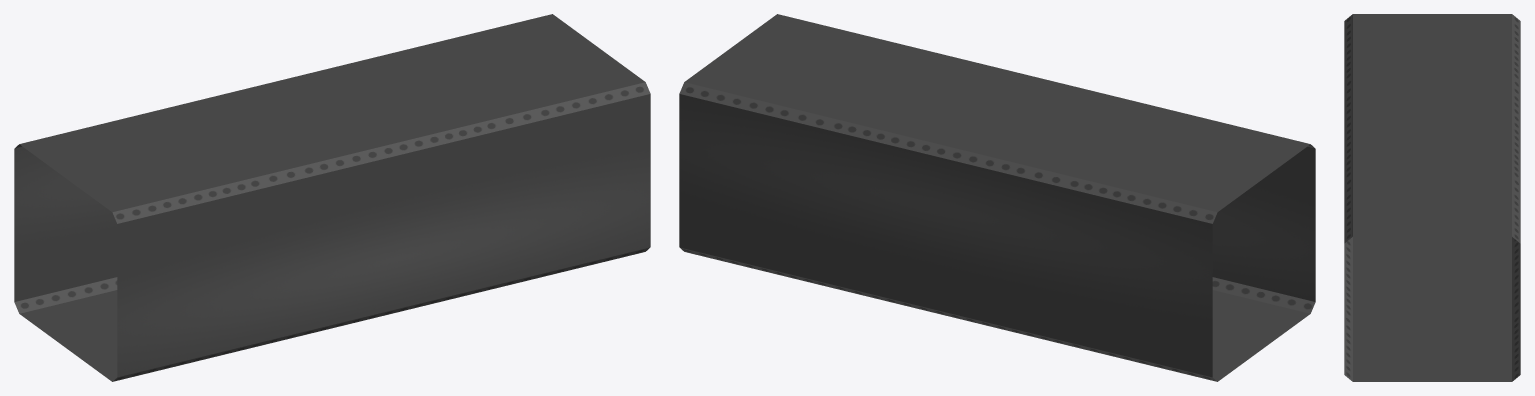
File: Tunnel.fbx
3 renders of one model, left to right at view 1: azimuth 30°, elevation 25°; view 2: azimuth 150°, elevation 25°; view 3: azimuth 270°, elevation 25°, orthographic. The views are drawn at different scales.
Visible parts, largest first — view 1: Cube; view 2: Cube; view 3: Cube.
Boxes of the visible parts, x1=… form: Cube: x1=14, y1=14, x2=650, y2=381; Cube: x1=679, y1=14, x2=1315, y2=381; Cube: x1=1344, y1=14, x2=1520, y2=381.
Size of the model in its own units: 1299 by 395 by 434.
